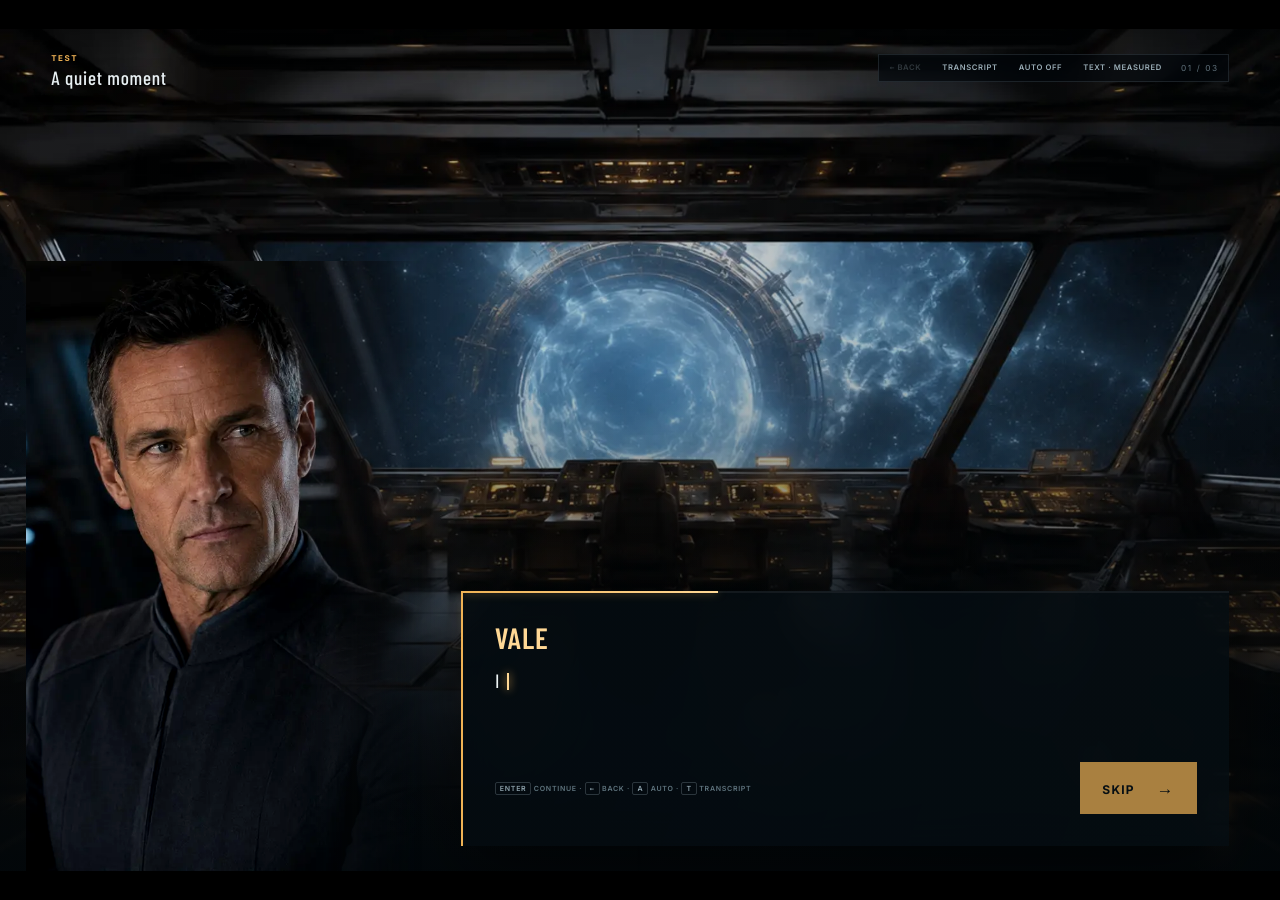
Test case: dialogue continuity adversaries › Skip reveals the whole line permanently, even with a pending typewriter timer
Click the button "Skip →". click: (1139, 788)
box: [1080,762,1197,814]
Wait 1000 ms
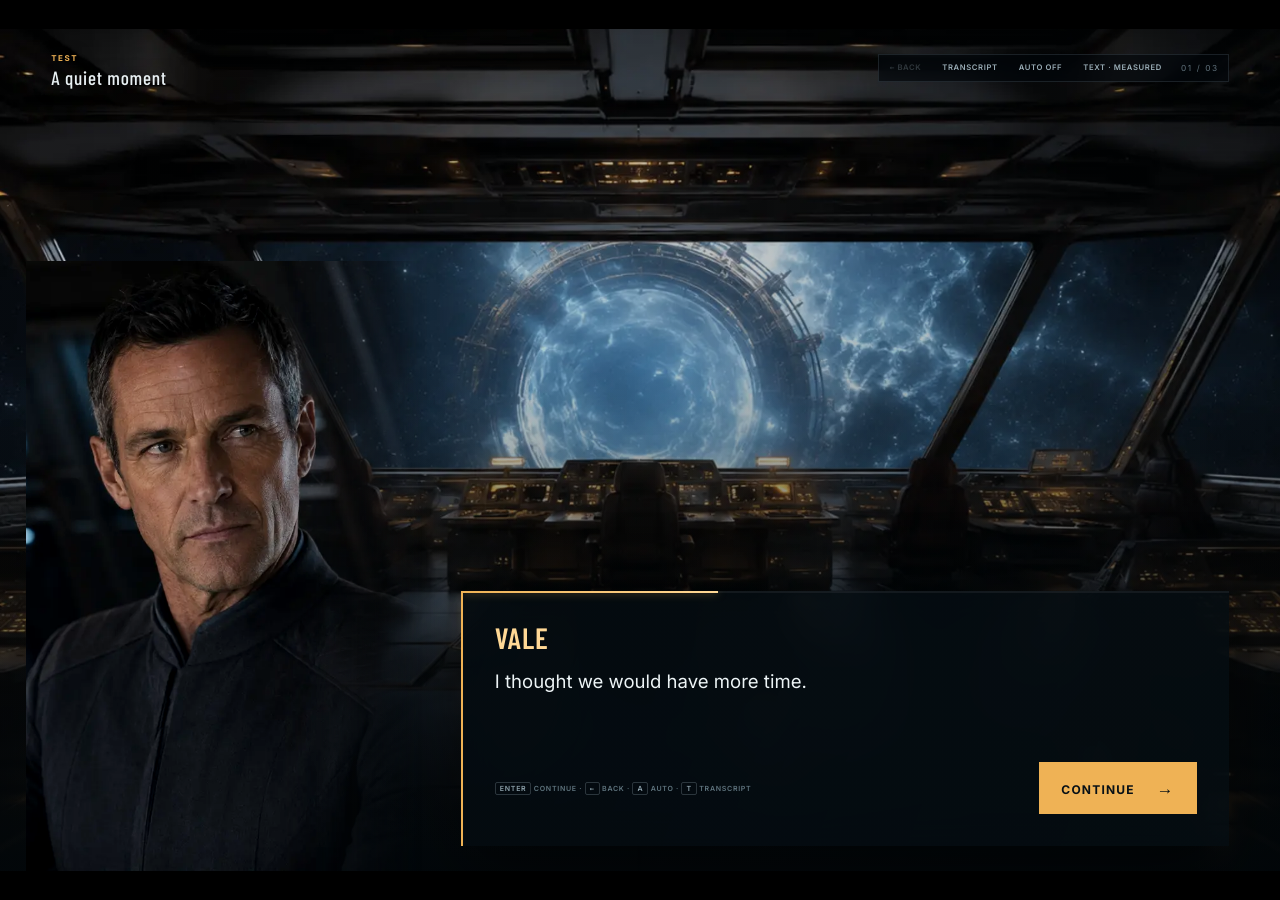
Expected: the text with class "typed" reads "I thought we would have more time.", [495,670,807,692]
